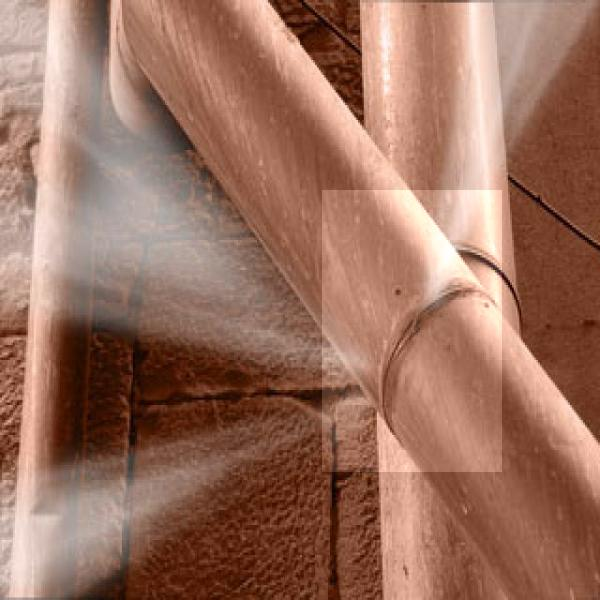gas: (322, 190, 502, 472)
